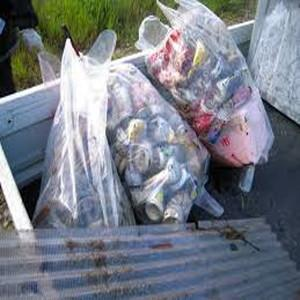Plastic: (109, 80, 137, 120)
